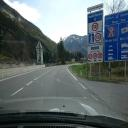speed_limit_110: (98, 52, 102, 59)
